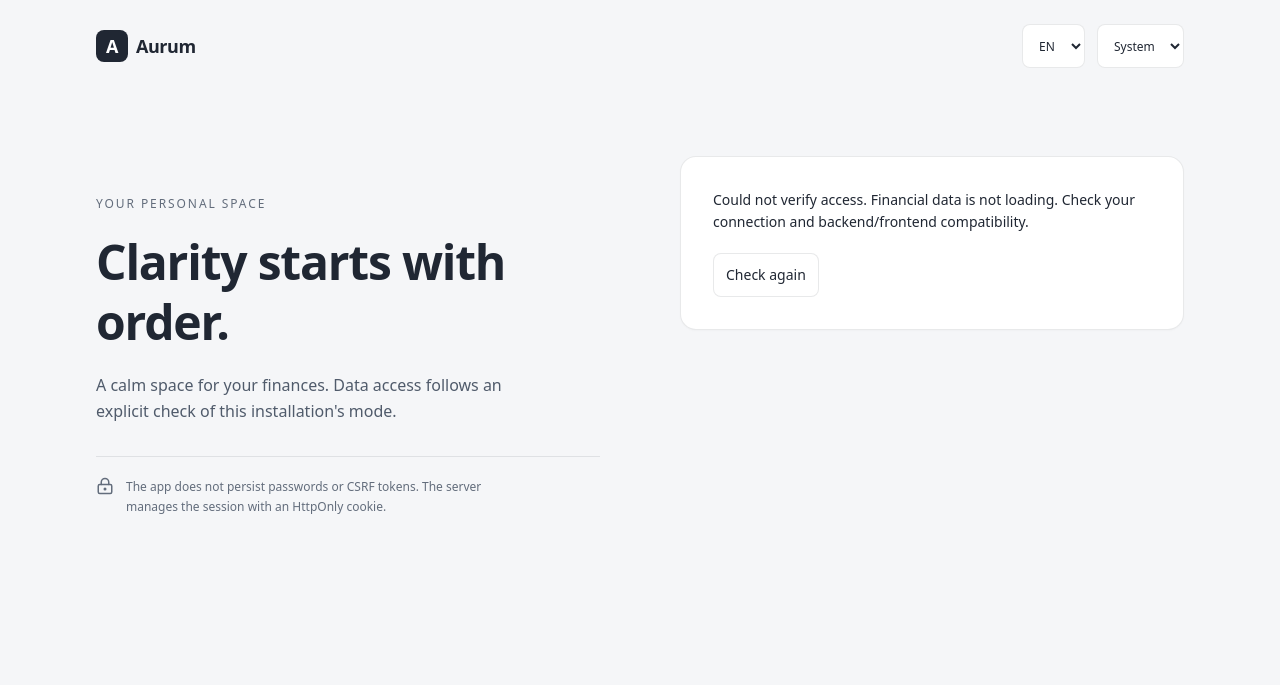
network mode failures fail closed and an explicit retry can recover
Step 1. Click the button "Check again" → click(766, 275), box x1=713 y1=253 x2=819 y2=297
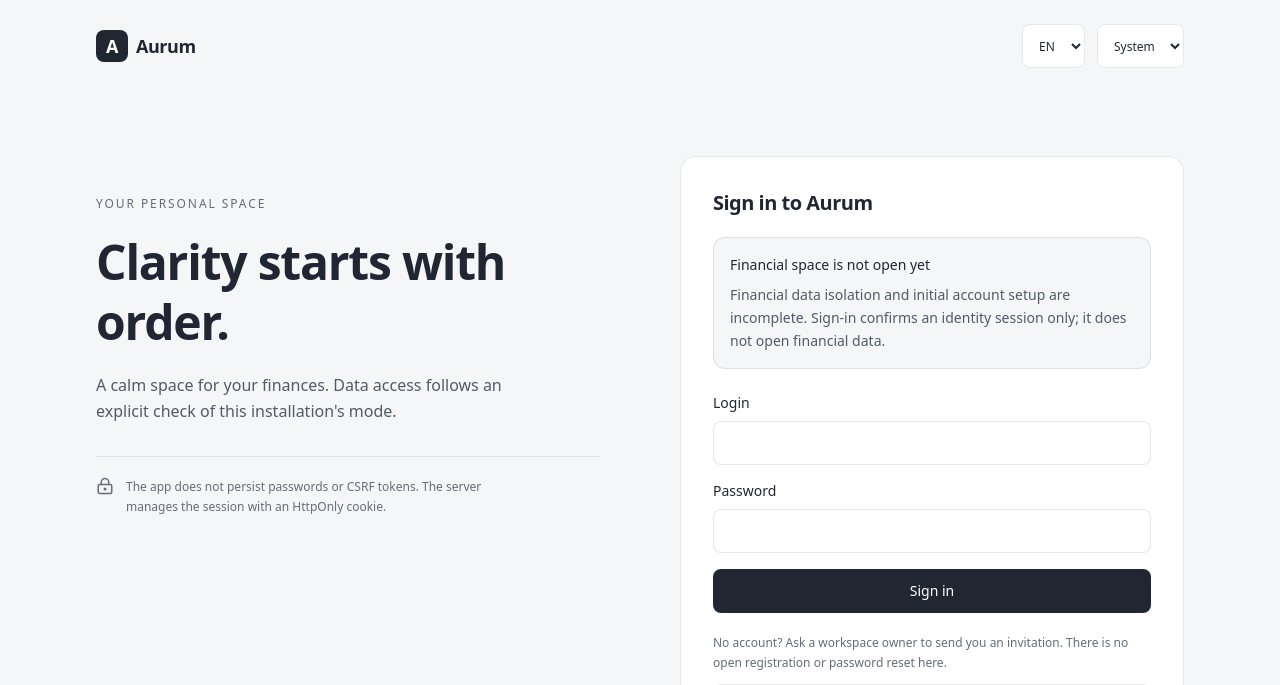
Check: the text "Financial space is not open yet" is shown, box x1=730 y1=255 x2=930 y2=274
